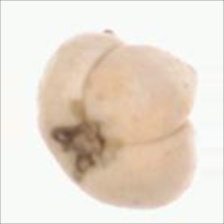L5: (80, 41, 202, 150), (45, 96, 123, 185), (167, 49, 200, 114)
L6: (34, 27, 201, 213)
